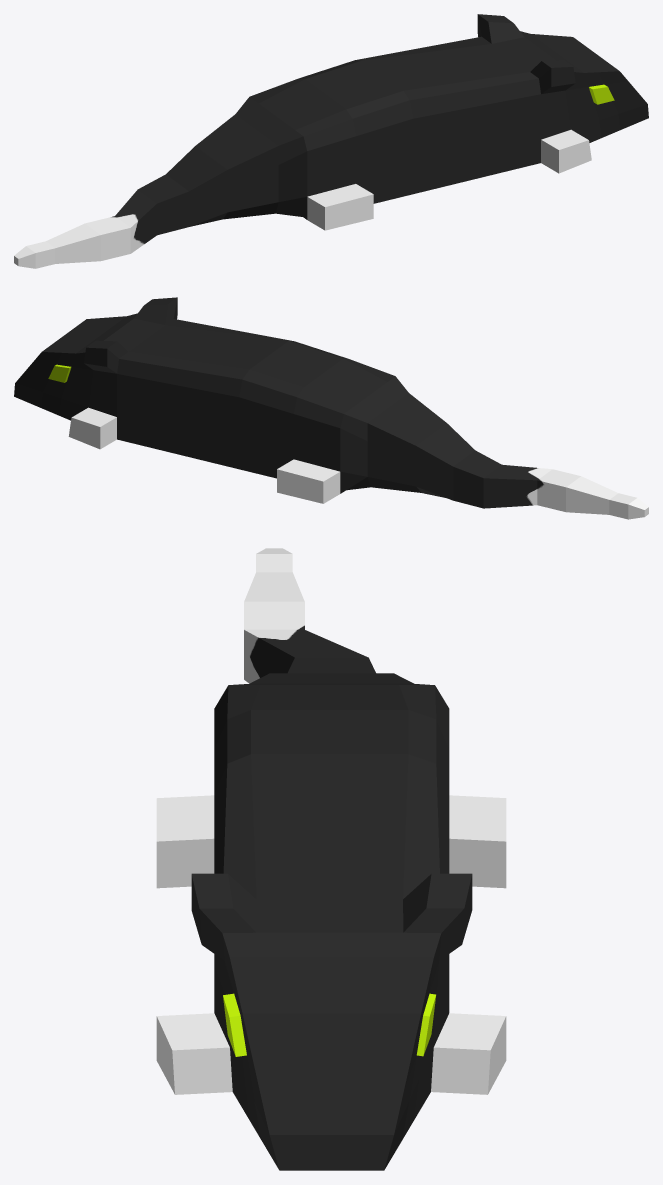
Rendered from CatRat.fbx.
3 renders of one model, top to bottom at view 1: azimuth 30°, elevation 25°; view 2: azimuth 150°, elevation 25°; view 3: azimuth 270°, elevation 25°, orthographic. The views are drawn at different scales.
Visible parts, largest first — view 1: Cube; view 2: Cube; view 3: Cube.
Part boxes in pixels (x1,y1,x2,y2): Cube: [14, 14, 648, 268]; Cube: [14, 297, 648, 519]; Cube: [156, 548, 506, 1170].
Bounding box in the file's own units: 542 × 80.64 × 136.
1 material, 1 textured.
